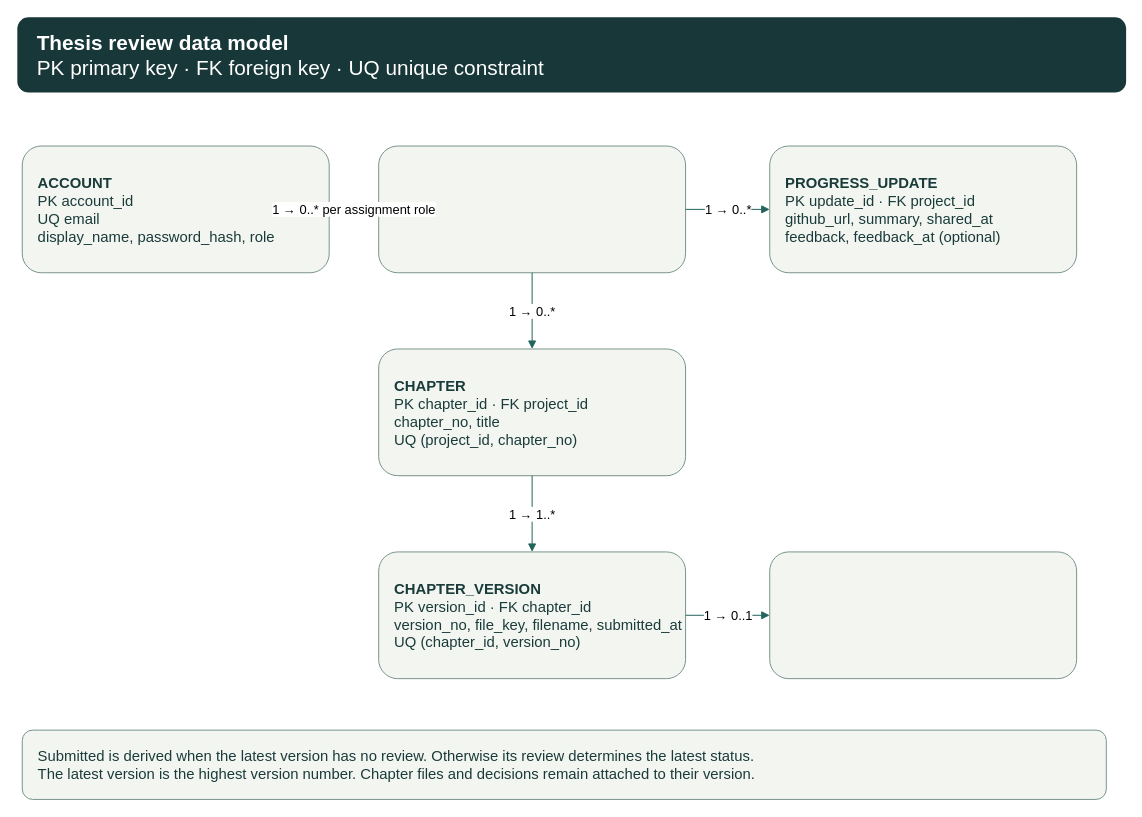
Image size: 1142x817. Some labels were removed from this diagram. The box of each missing label's shape, as (x1, y1, x2, y2) in pixels:
PROJECT PK project_id FK student_id → ACCOUNT FK supervisor_id → ACCOUNT title: (378, 145, 686, 273)
VERSION_REVIEW PK/FK version_id decision, feedback, reviewed_at: (769, 551, 1077, 679)
